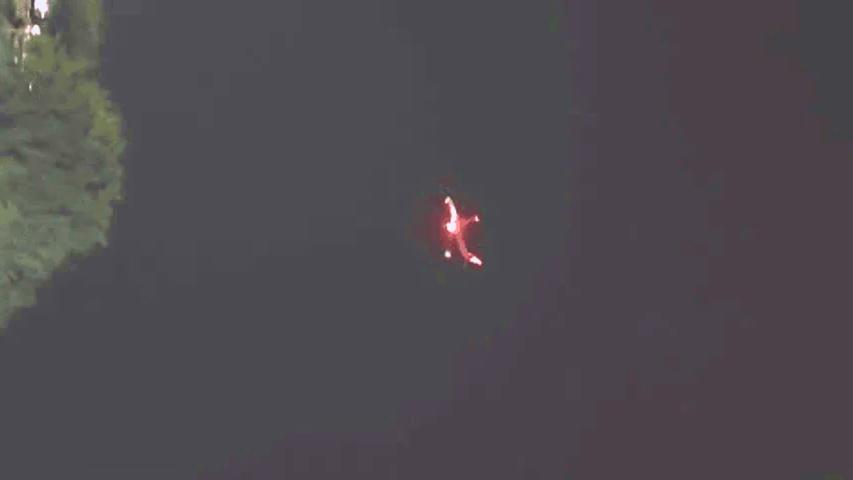Plane: (372, 160, 551, 300)
